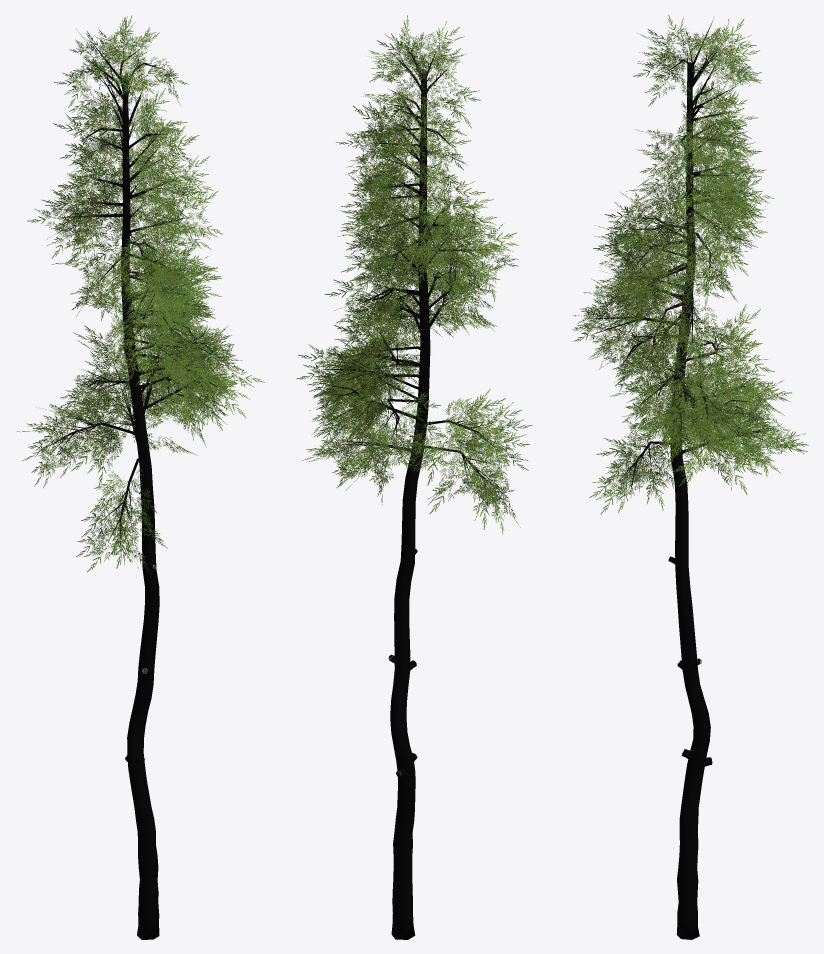
File: SM_Spruce_Tall.fbx
3 views of the same model, side by side, from view 1: azimuth 30°, elevation 25°; view 2: azimuth 150°, elevation 25°; view 3: azimuth 270°, elevation 25° (orthographic).
Visible parts, largest first — view 1: LOD0; view 2: LOD0; view 3: LOD0.
Part boxes in pixels (x1,y1,x2,y2): LOD0: [17, 15, 264, 939]; LOD0: [296, 15, 532, 939]; LOD0: [572, 15, 808, 939].
Bounding box in the file's own units: 302 × 302 × 1223.
